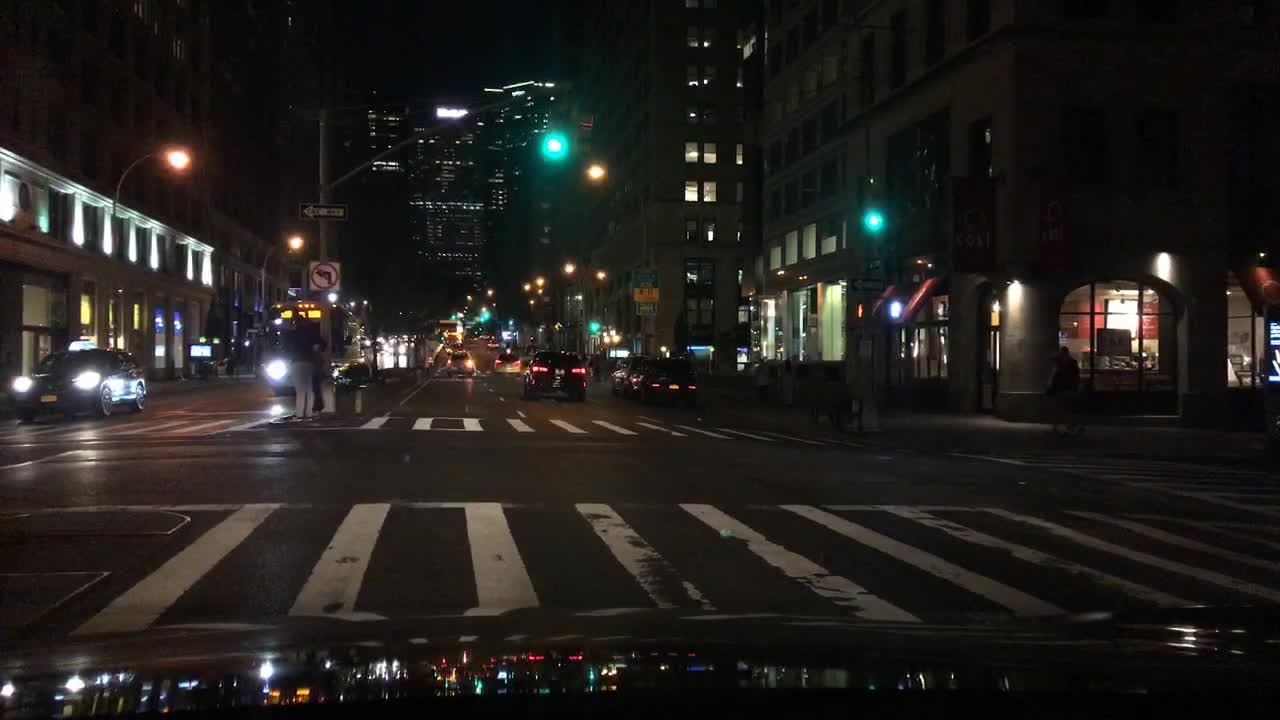bus: (258, 302, 366, 393)
car: (8, 337, 147, 422), (521, 347, 589, 402), (643, 353, 700, 408), (609, 356, 646, 397), (626, 356, 661, 399), (443, 350, 478, 379), (491, 353, 523, 377), (373, 335, 404, 358), (401, 338, 415, 350), (448, 344, 464, 354)
person: (282, 313, 327, 419), (1044, 343, 1082, 446), (750, 353, 771, 408), (779, 355, 798, 411), (586, 353, 602, 383), (522, 335, 536, 361)
traffic light: (541, 86, 569, 170), (569, 85, 596, 171), (861, 176, 881, 244), (883, 298, 904, 324), (851, 300, 871, 322)
traffic sign: (305, 258, 341, 295), (296, 201, 348, 223), (631, 266, 659, 299), (847, 278, 884, 294), (636, 301, 657, 315), (867, 259, 883, 273)
